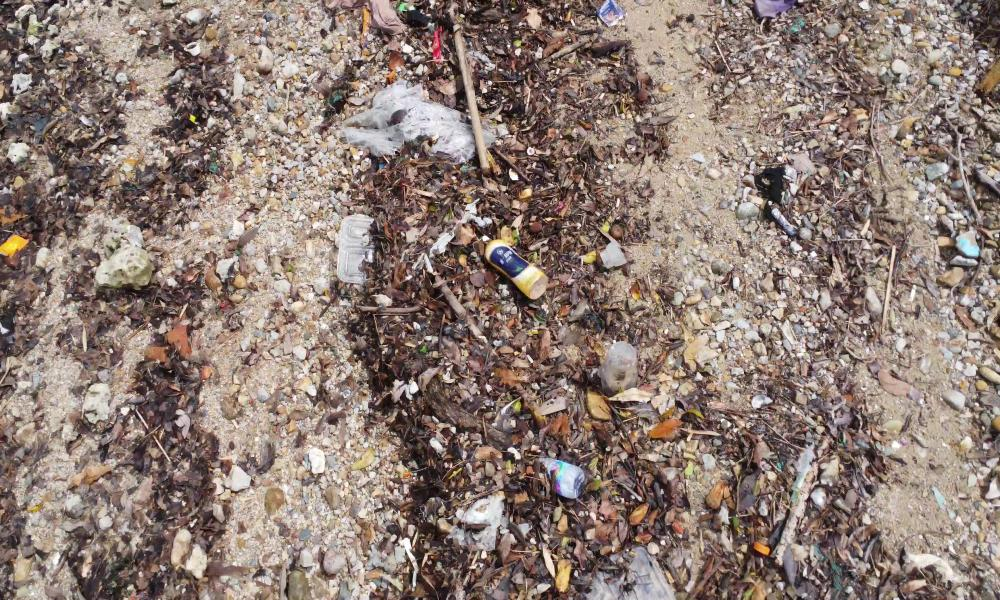plastic bag: (334, 66, 486, 170), (84, 213, 158, 292), (447, 484, 512, 558)
plastic bottle: (466, 220, 551, 314), (529, 450, 588, 508)
plastic container: (581, 543, 676, 600), (338, 205, 397, 285)
